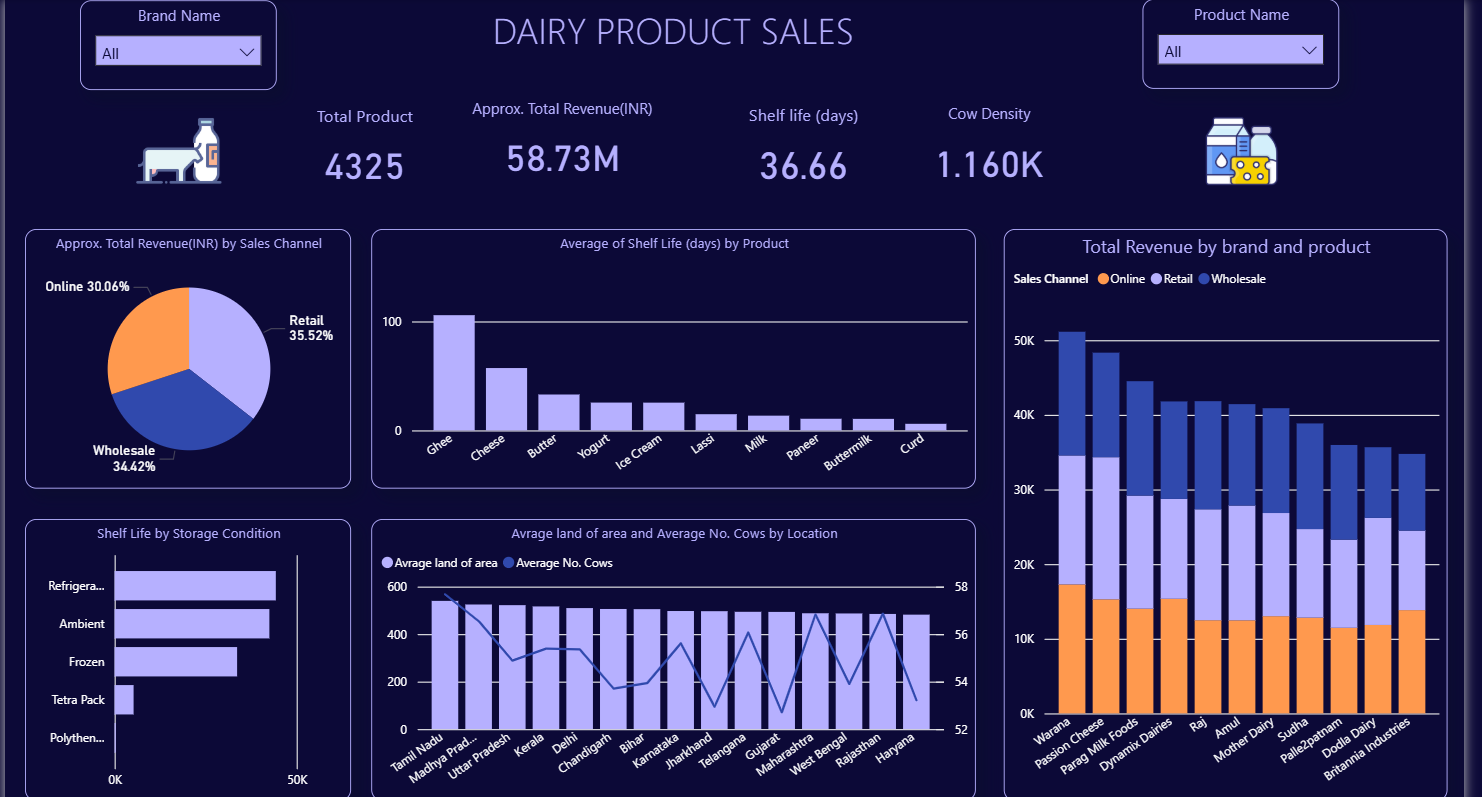

The dashboard page shown, as its layout file describes it:
{"tool":"powerbi","page":{"name":"Page 1","canvas":[1300,720],"ordinal":0},"visuals":[{"type":"lineClusteredColumnComboChart","fields":{"Category":["dairy_dataset.Location"],"Y":["dairy_dataset.Avrage land of area"],"Y2":["dairy_dataset.Average No. Cows"]},"box":[326.2,463.1,538.8,251.6],"z":0},{"type":"card","title":"Cow Density","fields":{"Values":["Sum(dairy_dataset.Cow Density)"]},"box":[795.9,92.4,161.4,86.8],"z":1000},{"type":"clusteredBarChart","title":"Shelf Life by Storage Condition","fields":{"Category":["dairy_dataset.Storage Condition"],"Y":["Sum(dairy_dataset.Shelf Life (days))"]},"box":[17.8,463.1,290.5,251.6],"z":2000},{"type":"pieChart","title":" Approx. Total Revenue(INR) by Sales Channel","fields":{"Category":["dairy_dataset.Sales Channel"],"Y":["Sum(dairy_dataset.Approx. Total Revenue(INR))"]},"box":[17.8,204.8,290.5,231.5],"z":3000},{"type":"card","title":"Shelf life (days)","fields":{"Values":["dairy_dataset.Shelf Life by storage"]},"box":[640.1,92.4,142.5,86.8],"z":4000},{"type":"clusteredColumnChart","title":"Average of Shelf Life (days) by Product ","fields":{"Category":["dairy_dataset.Product Name"],"Y":["dairy_dataset.Shelf Life by storage"]},"box":[326.2,204.8,538.8,231.5],"z":5000},{"type":"columnChart","title":"Total Revenue by brand and product","fields":{"Category":["dairy_dataset.Brand"],"Y":["Avg(dairy_dataset.Approx. Total Revenue(INR))"],"Series":["dairy_dataset.Sales Channel"]},"box":[889.4,204.8,395.2,509.8],"z":6000},{"type":"card","title":"Approx. Total Revenue(INR)","fields":{"Values":["Sum(dairy_dataset.Approx. Total Revenue(INR))"]},"box":[410.8,87.9,171.4,85.7],"z":7000},{"type":"textbox","box":[256,1.1,677.9,62.3],"z":8000},{"type":"image","box":[102.4,92.4,104.6,85.7],"z":9000},{"type":"slicer","title":"Product Name","fields":{"Values":["dairy_dataset.Product Name"]},"box":[1013,0,175,80],"z":10000},{"type":"card","title":"Total Product","fields":{"Values":["CountNonNull(dairy_dataset.Product Name)"]},"box":[256,93.5,129.1,85.7],"z":11000},{"type":"image","box":[1054.2,98,94.6,75.7],"z":12000},{"type":"slicer","title":"Brand Name","fields":{"Values":["dairy_dataset.Brand"]},"box":[66.8,1.1,175,80],"z":13000}]}

Visuals, with their boxes in screenshot pixels (x1, y1, x2, y2), scaled from the page's 1300x720 canvas onto the 1482x797 screenshot:
lineClusteredColumnComboChart - dairy_dataset.Location x dairy_dataset.Avrage land of area: x1=372 y1=513 x2=986 y2=791
"Cow Density" card: x1=907 y1=102 x2=1091 y2=198
"Shelf Life by Storage Condition" clusteredBarChart: x1=20 y1=513 x2=351 y2=791
" Approx. Total Revenue(INR) by Sales Channel" pieChart: x1=20 y1=227 x2=351 y2=483
"Shelf life (days)" card: x1=730 y1=102 x2=892 y2=198
"Average of Shelf Life (days) by Product " clusteredColumnChart: x1=372 y1=227 x2=986 y2=483
"Total Revenue by brand and product" columnChart: x1=1014 y1=227 x2=1464 y2=791
"Approx. Total Revenue(INR)" card: x1=468 y1=97 x2=664 y2=192
textbox: x1=292 y1=1 x2=1065 y2=70
image: x1=117 y1=102 x2=236 y2=197
"Product Name" slicer: x1=1155 y1=0 x2=1354 y2=89
"Total Product" card: x1=292 y1=103 x2=439 y2=198
image: x1=1202 y1=108 x2=1310 y2=192
"Brand Name" slicer: x1=76 y1=1 x2=276 y2=90
